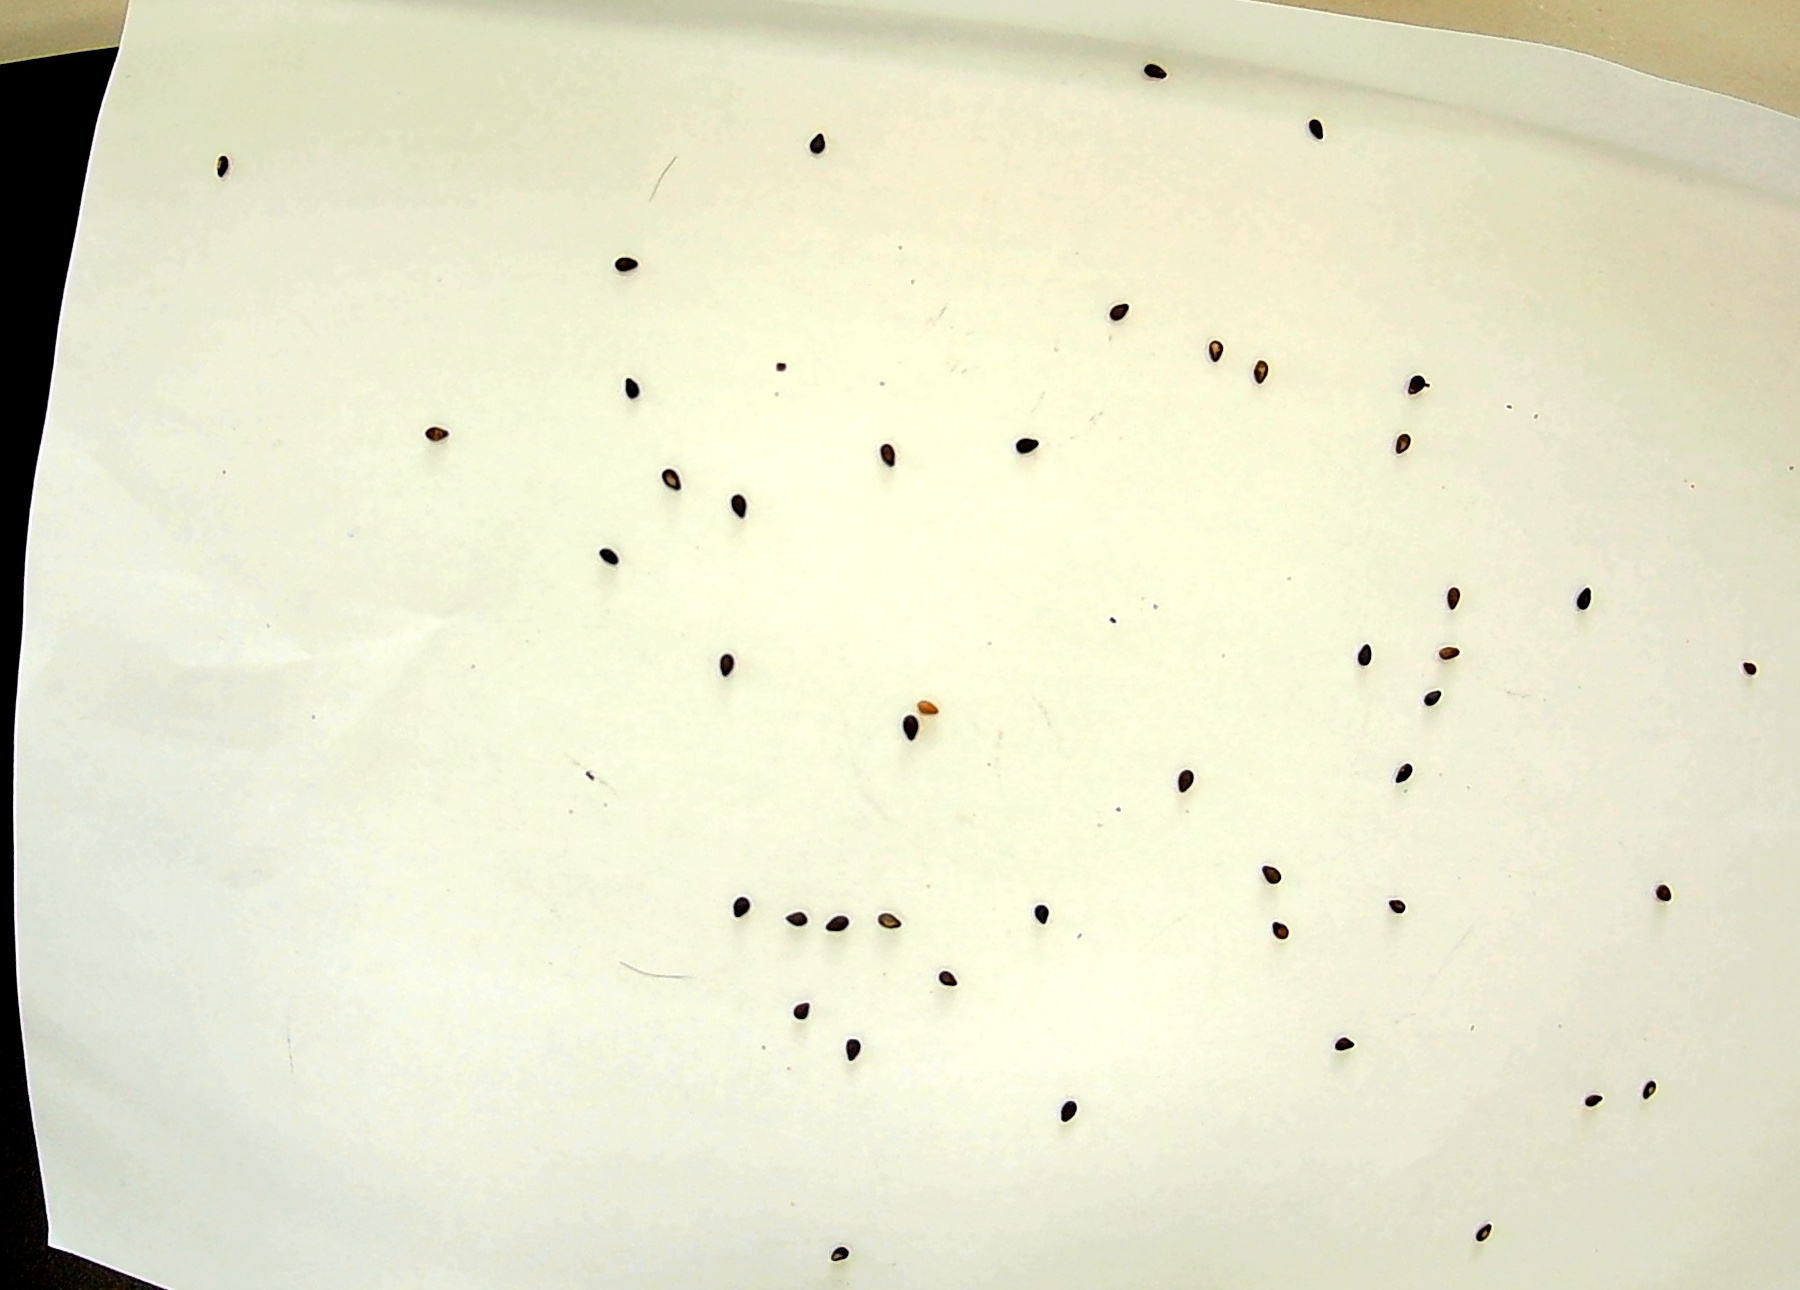sesami: (1468, 1208, 1501, 1247), (1578, 1083, 1612, 1122), (1644, 873, 1677, 912), (1633, 1067, 1665, 1104), (862, 903, 899, 935), (590, 540, 625, 572), (699, 651, 734, 683), (890, 712, 925, 744), (908, 692, 943, 725), (720, 884, 755, 916), (779, 898, 813, 930), (819, 909, 854, 941), (921, 967, 956, 1000), (1386, 431, 1416, 468), (1732, 651, 1758, 691), (1434, 634, 1465, 669), (1206, 336, 1236, 371), (1444, 578, 1473, 613), (1349, 642, 1379, 677), (1398, 370, 1427, 405), (1246, 362, 1275, 396), (1098, 296, 1127, 331), (1019, 424, 1048, 459), (1568, 577, 1593, 617), (1140, 56, 1168, 87), (1298, 117, 1326, 148), (836, 1030, 862, 1062), (827, 1238, 854, 1270), (614, 373, 640, 403), (1051, 1097, 1077, 1128), (1026, 898, 1052, 928), (423, 413, 449, 443), (209, 152, 236, 181), (653, 462, 680, 491), (1327, 1021, 1353, 1050), (784, 993, 809, 1023), (1028, 899, 1053, 930), (1381, 894, 1408, 921), (1393, 755, 1419, 783), (613, 254, 638, 283), (721, 494, 747, 524), (1173, 764, 1199, 793), (1266, 916, 1291, 945), (1259, 861, 1284, 889), (879, 438, 900, 472), (804, 130, 825, 163), (1419, 688, 1441, 718)
